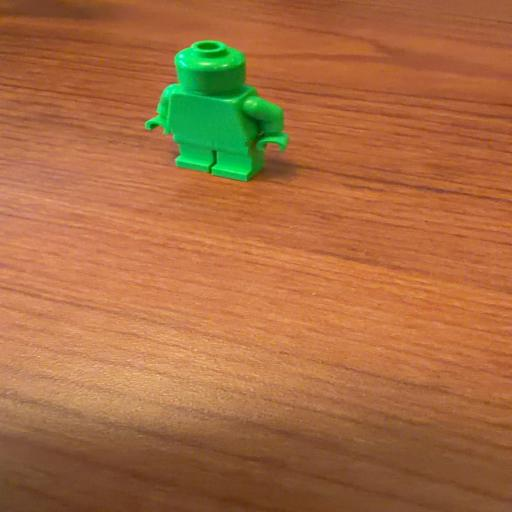UnoQ-minifig-detector: (145, 40, 289, 182)
